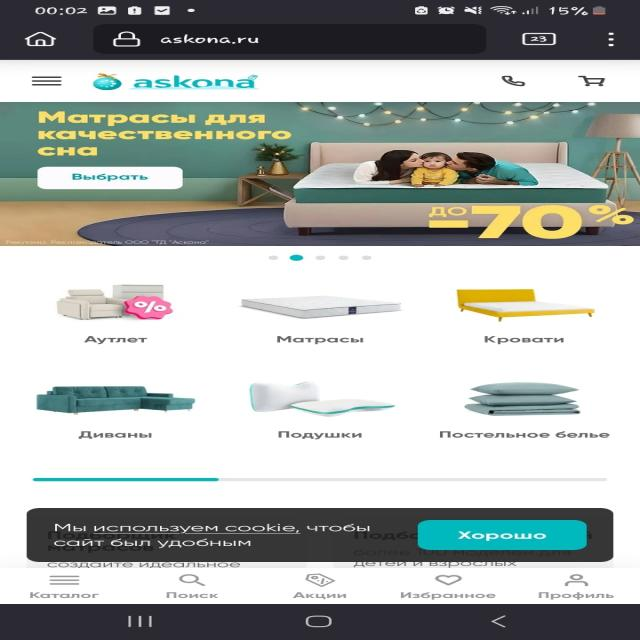button: (418, 521, 591, 549)
site: (27, 507, 613, 562)
